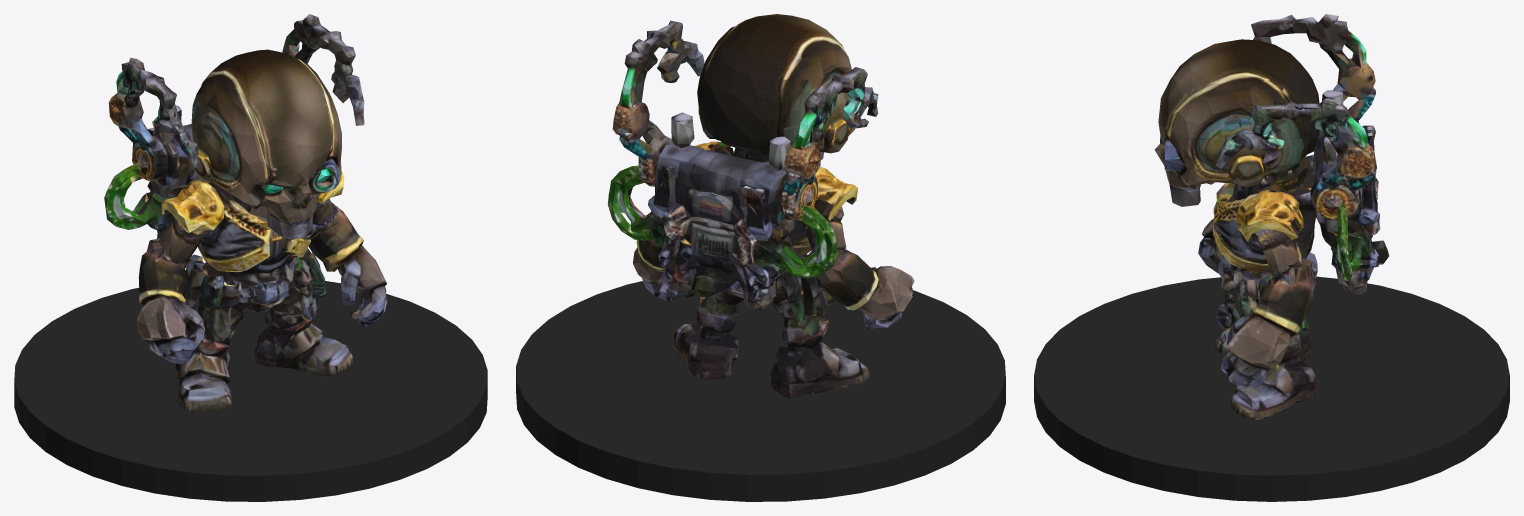
File: ht-technomancer.glb
3 views of the same model, side by side, from view 1: azimuth 30°, elevation 25°; view 2: azimuth 150°, elevation 25°; view 3: azimuth 270°, elevation 25° (orthographic). The views are drawn at different scales.
Parts seen in each view (by area): view 1: base, figure; view 2: base, figure; view 3: base, figure.
Part boxes in pixels (box(x1,y1,x2,y2)): base: box(14, 281, 487, 501); figure: box(104, 14, 387, 411); base: box(516, 281, 1005, 501); figure: box(607, 14, 914, 397); base: box(1034, 276, 1509, 501); figure: box(1154, 14, 1389, 419).
Bounding box in the file's own units: 1.97 × 1.62 × 1.97.
2 materials, 1 textured.
